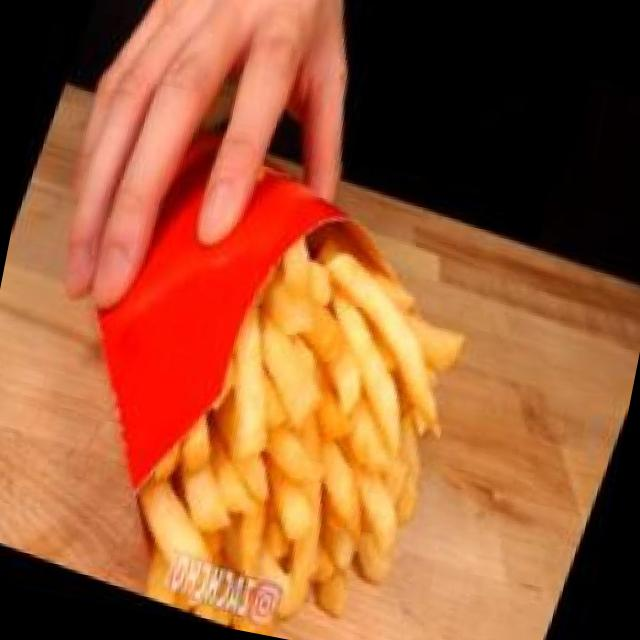french fries: (69, 128, 531, 640)
